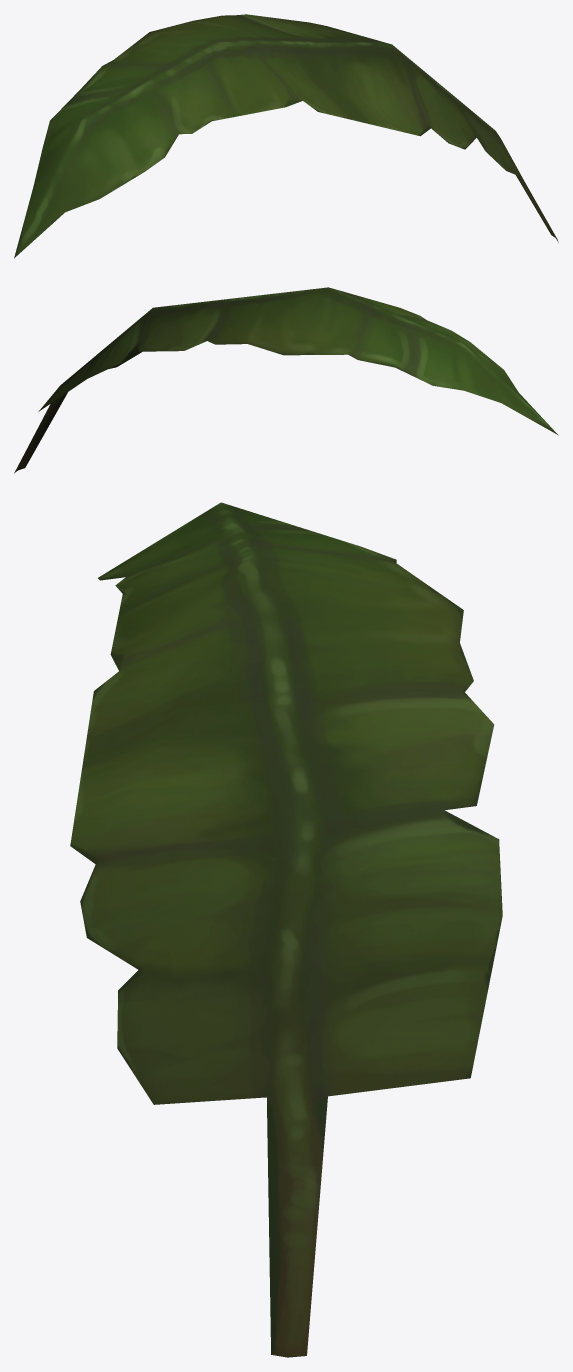
File: Big_Leaf_04.fbx
3 views of the same model, one above another, from view 1: azimuth 30°, elevation 25°; view 2: azimuth 150°, elevation 25°; view 3: azimuth 270°, elevation 25° (orthographic). The views are drawn at different scales.
Visible parts, largest first — view 1: Big_Leaf_04; view 2: Big_Leaf_04; view 3: Big_Leaf_04.
Part boxes in pixels (<box>): Big_Leaf_04: <box>14,14,558,258</box>; Big_Leaf_04: <box>14,287,558,473</box>; Big_Leaf_04: <box>70,502,502,1357</box>.
Size of the model in its own units: 3.42 by 1.62 by 1.27.
Materials: 1 (1 with a texture image).
